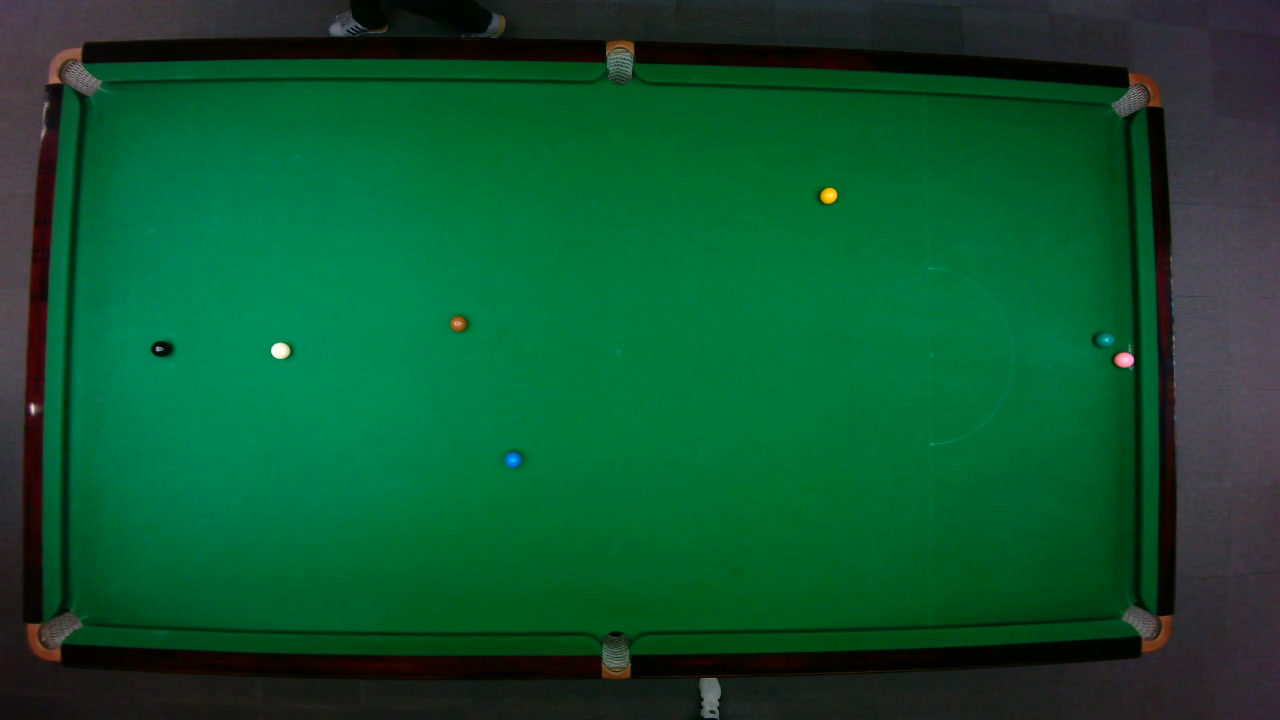bag: (25, 609, 83, 662), (45, 46, 101, 96), (1119, 603, 1172, 652), (1108, 71, 1161, 118), (601, 629, 630, 680), (605, 38, 633, 85)
black: (149, 339, 172, 357)
blue: (504, 450, 522, 468)
brown: (448, 314, 467, 332)
green: (1093, 330, 1114, 347)
pink: (1112, 350, 1135, 368)
white: (268, 340, 291, 359)
yellow: (818, 185, 838, 204)
zone: (927, 265, 1013, 445)
